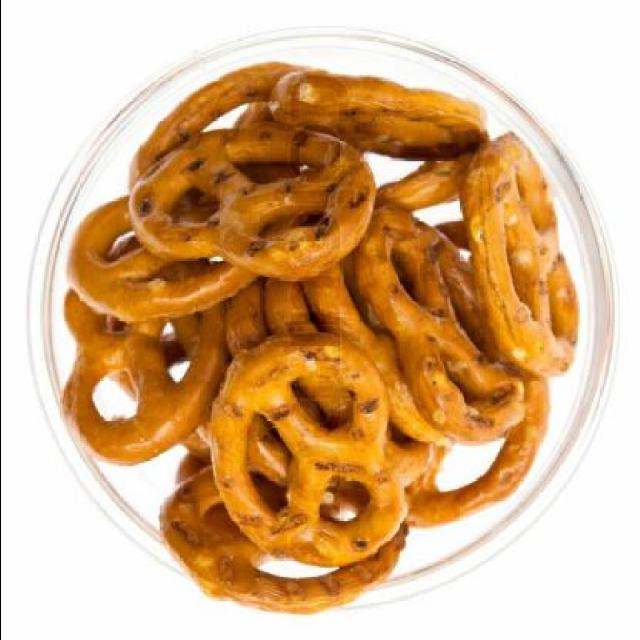Salatini packaged: (55, 59, 582, 615)
